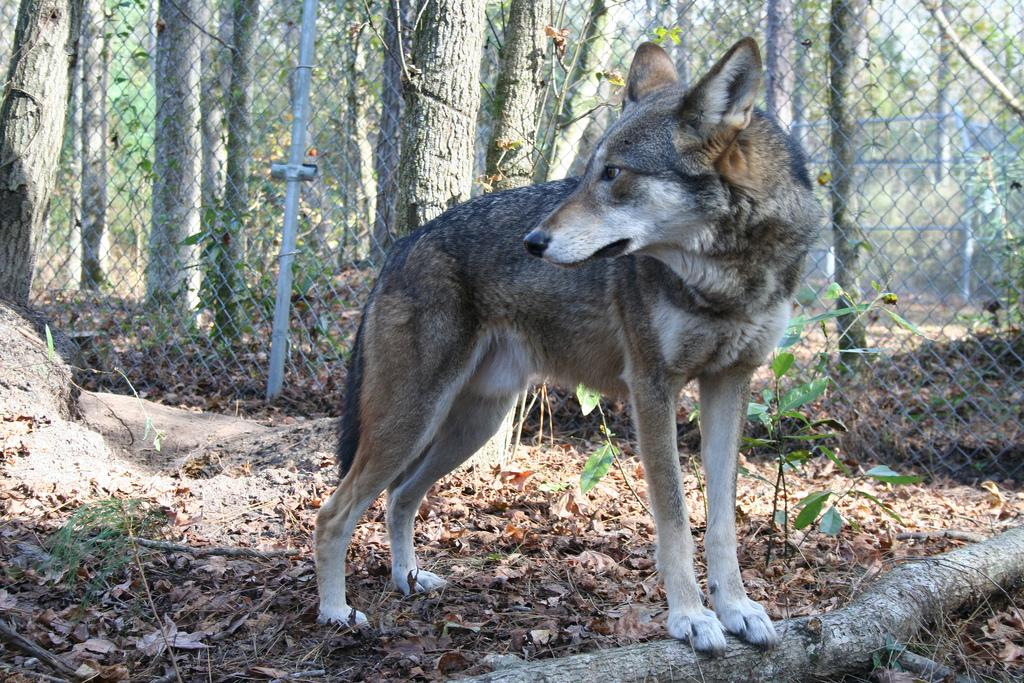Wolf: (313, 33, 826, 659)
